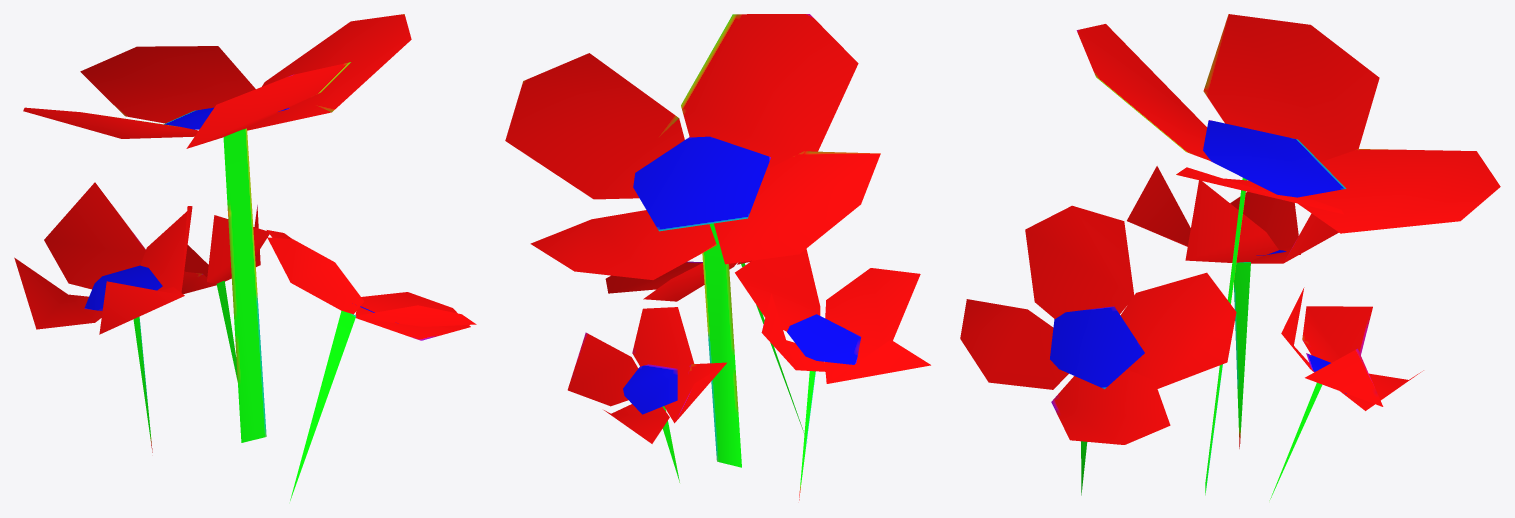
File: Flower.fbx
3 views of the same model, side by side, from view 1: azimuth 30°, elevation 25°; view 2: azimuth 150°, elevation 25°; view 3: azimuth 270°, elevation 25° (orthographic). The views are drawn at different scales.
Visible parts, largest first — view 1: Plane.004; view 2: Plane.004; view 3: Plane.004.
Part boxes in pixels (<box>): Plane.004: <box>14,14,476,500</box>; Plane.004: <box>505,14,930,500</box>; Plane.004: <box>960,14,1500,500</box>.
Size of the model in its own units: 0.2091 by 0.2211 by 0.2323.
